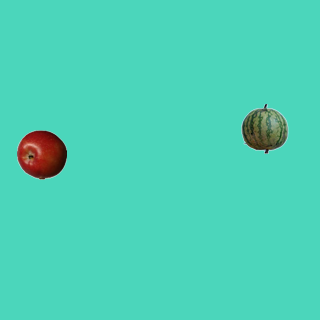Apple Braeburn: (16, 129, 66, 179)
Watermelon: (239, 103, 289, 153)
